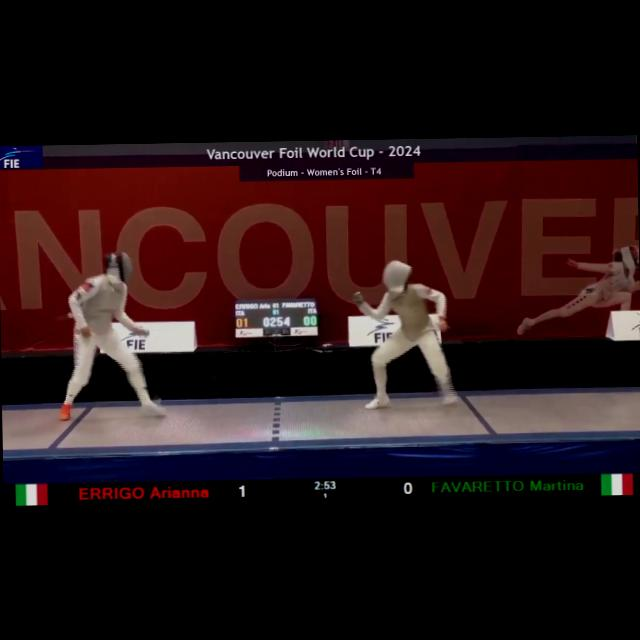blade: (141, 328, 220, 384)
